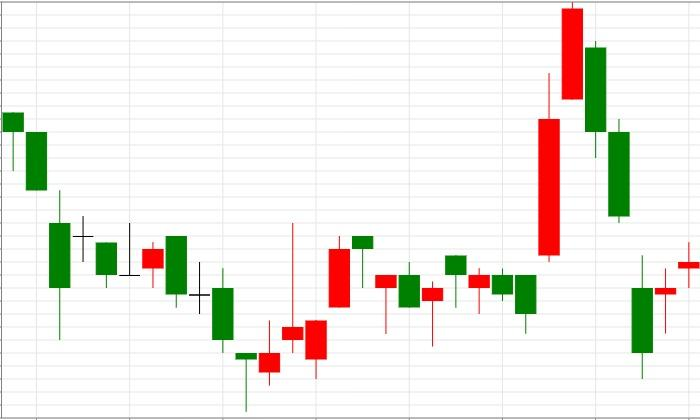three_black_crows_fall: (515, 2, 653, 378)
